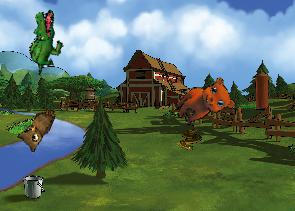bear: (170, 70, 240, 138)
crocodile: (18, 7, 70, 75)
owl: (13, 100, 57, 154)
